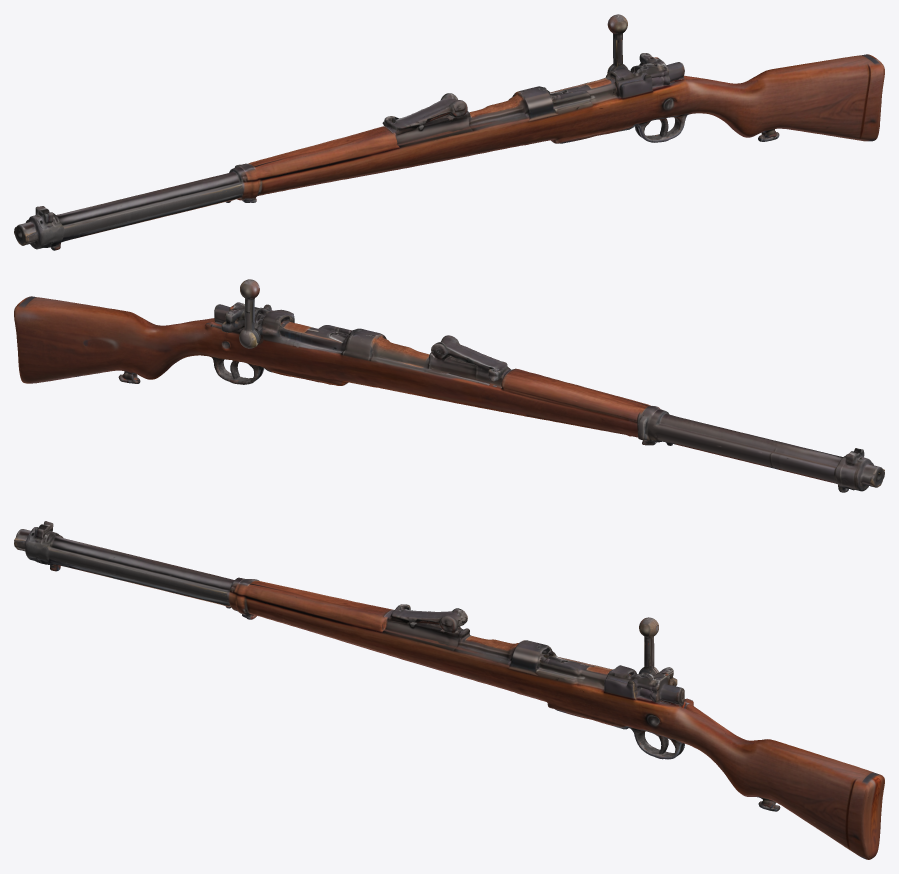
The model's file is Mauser_Rifle_1030144902_texture.fbx.
The picture shows the model from 3 angles, top to bottom: view 1: azimuth 30°, elevation 25°; view 2: azimuth 150°, elevation 25°; view 3: azimuth 330°, elevation 25°; orthographic projection.
Visible parts, largest first — view 1: input; view 2: input; view 3: input.
Part boxes in pixels (x1,y1,x2,y2): input: (14, 14, 884, 250); input: (14, 279, 884, 492); input: (14, 521, 884, 859).
Bounding box in the file's own units: 190 × 36.27 × 11.96.
Materials: 1 (1 with a texture image).
